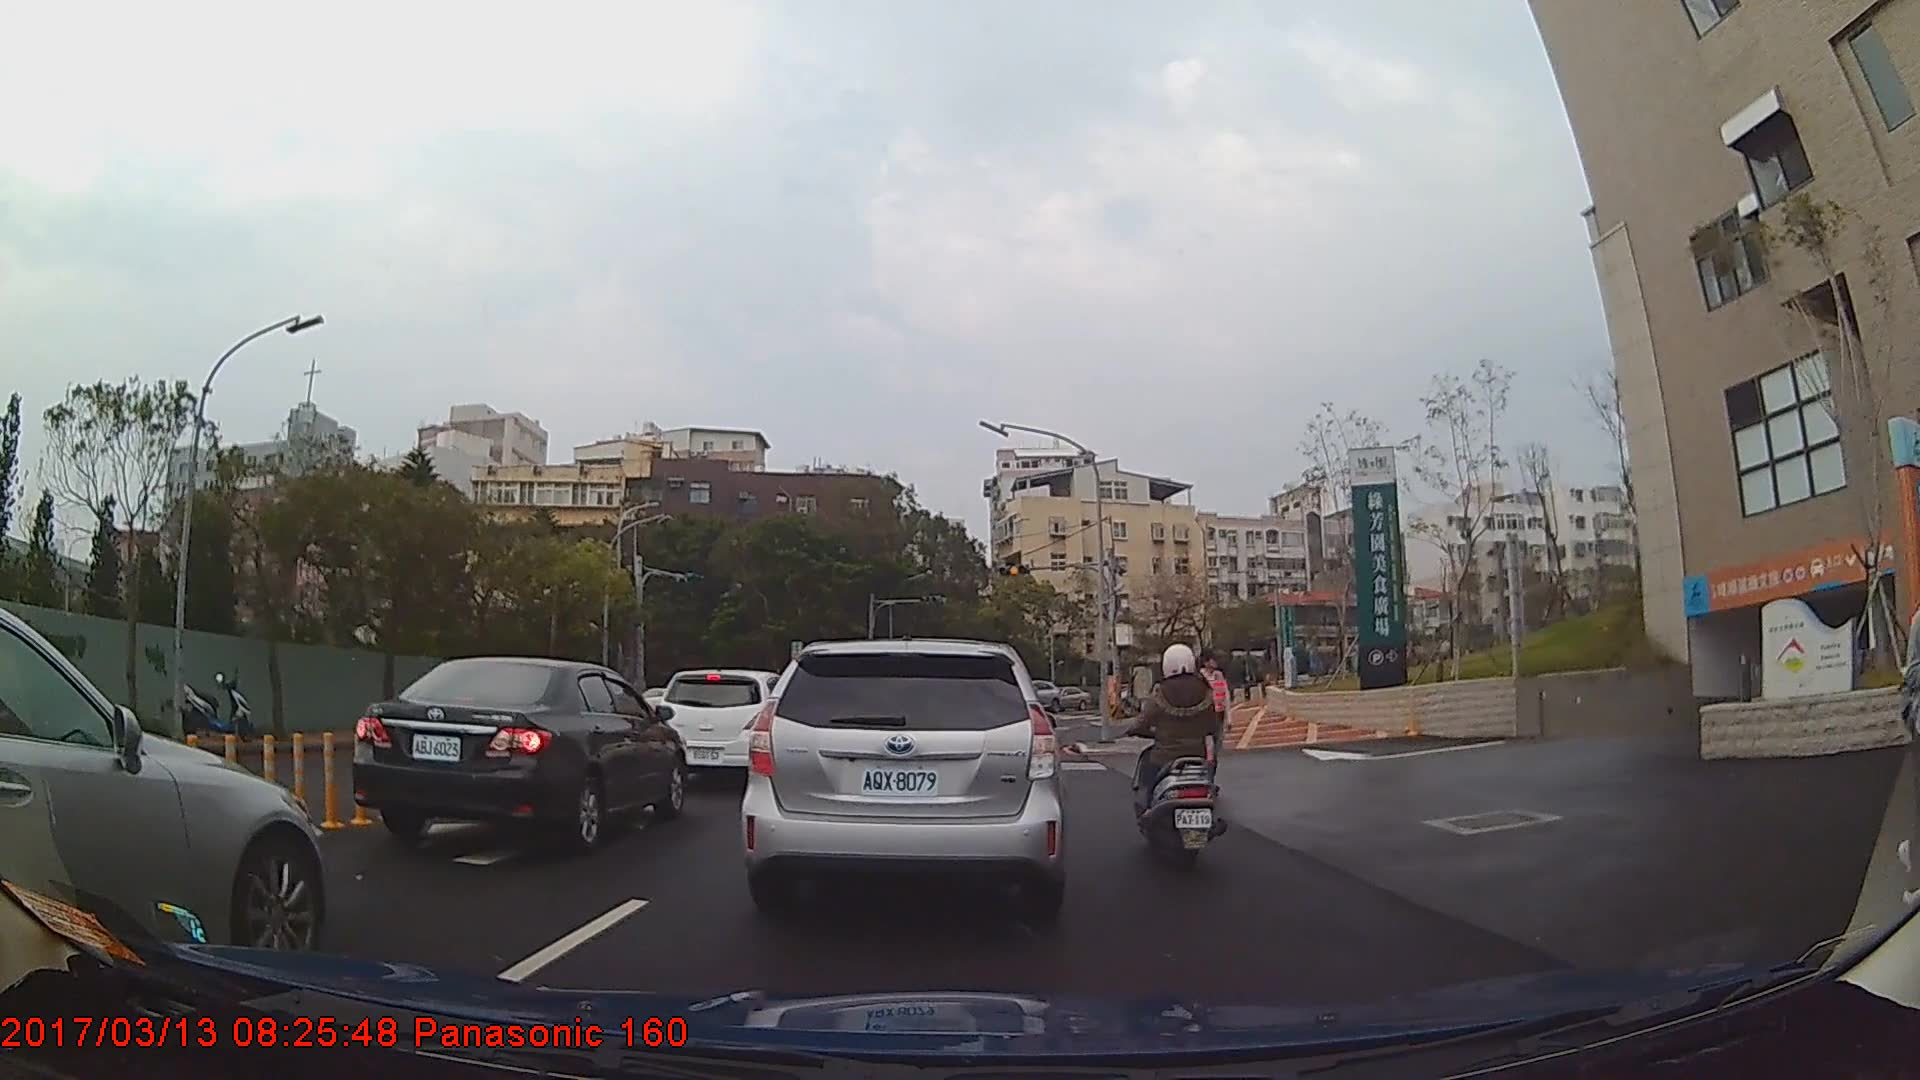pedestrian: (1898, 553, 1920, 905), (1187, 651, 1236, 798)
rider: (1129, 644, 1225, 875)
vehicle: (0, 609, 324, 969), (738, 636, 1064, 921), (350, 655, 688, 849), (657, 669, 792, 788), (1052, 683, 1092, 712)
